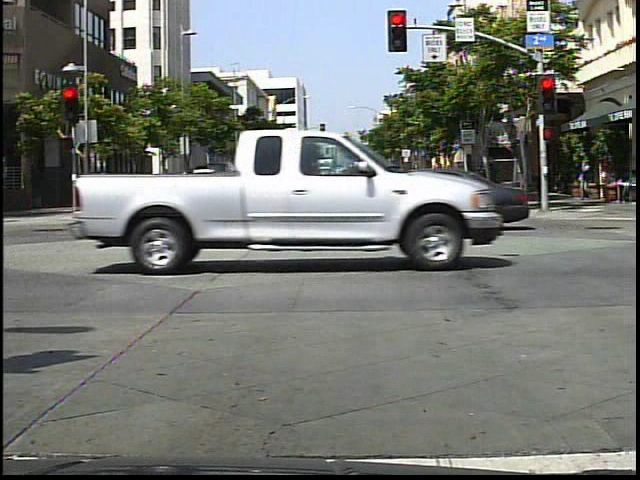person: (377, 163, 410, 236), (425, 160, 456, 224), (170, 166, 203, 225), (577, 157, 598, 205)
